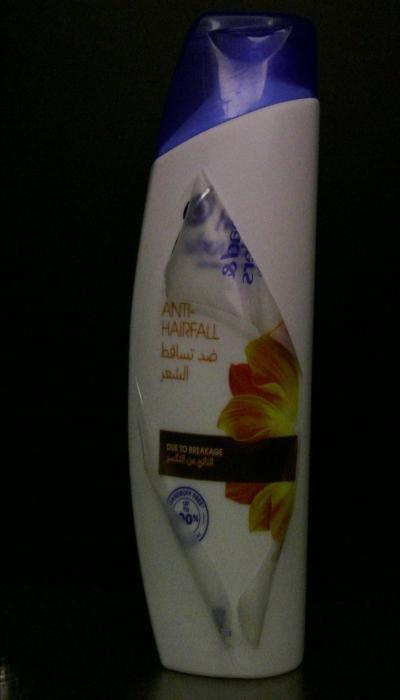adhesion_unacc: (130, 372, 236, 652), (158, 169, 304, 364), (234, 495, 298, 650)
